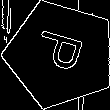P_E: (29, 30, 92, 80)
